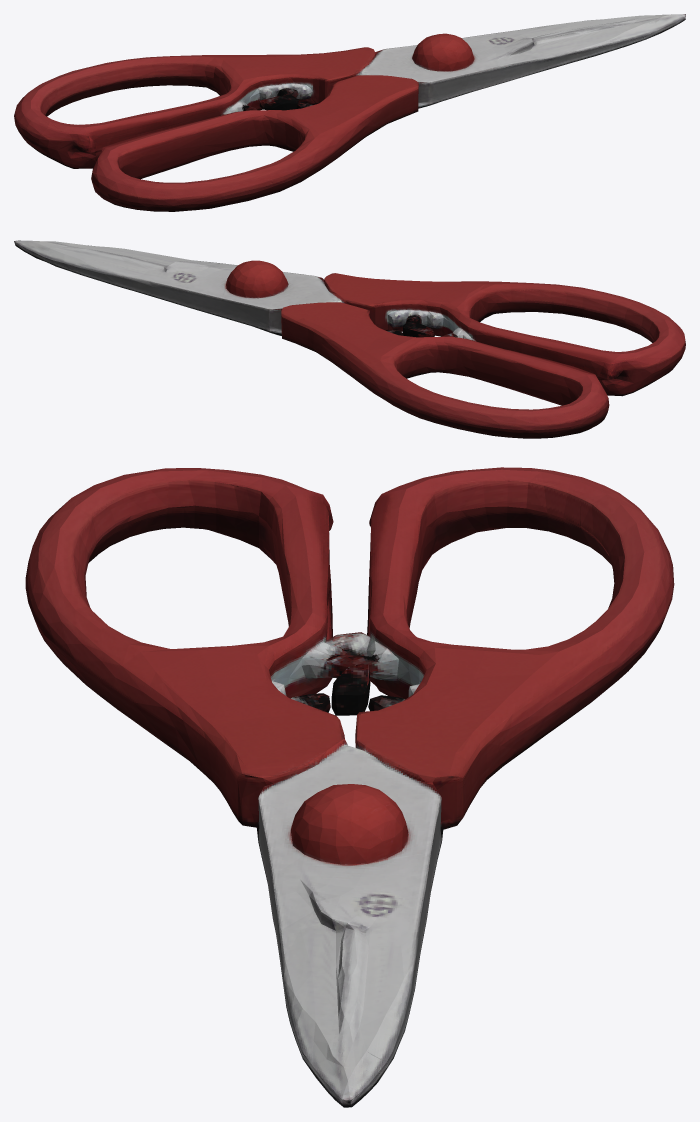
Rendered from Wushtof.glb.
The picture shows the model from 3 angles, top to bottom: view 1: azimuth 30°, elevation 25°; view 2: azimuth 150°, elevation 25°; view 3: azimuth 270°, elevation 25°; orthographic projection. The views are drawn at different scales.
Parts seen in each view (by area): view 1: world; view 2: world; view 3: world.
Boxes of the visible parts, x1,y1,x2,y2 form: world: (14, 14, 685, 211); world: (14, 240, 685, 438); world: (25, 467, 674, 1107).
Bounding box in the file's own units: 1 × 0.0867 × 0.4512.
1 material, 1 textured.
